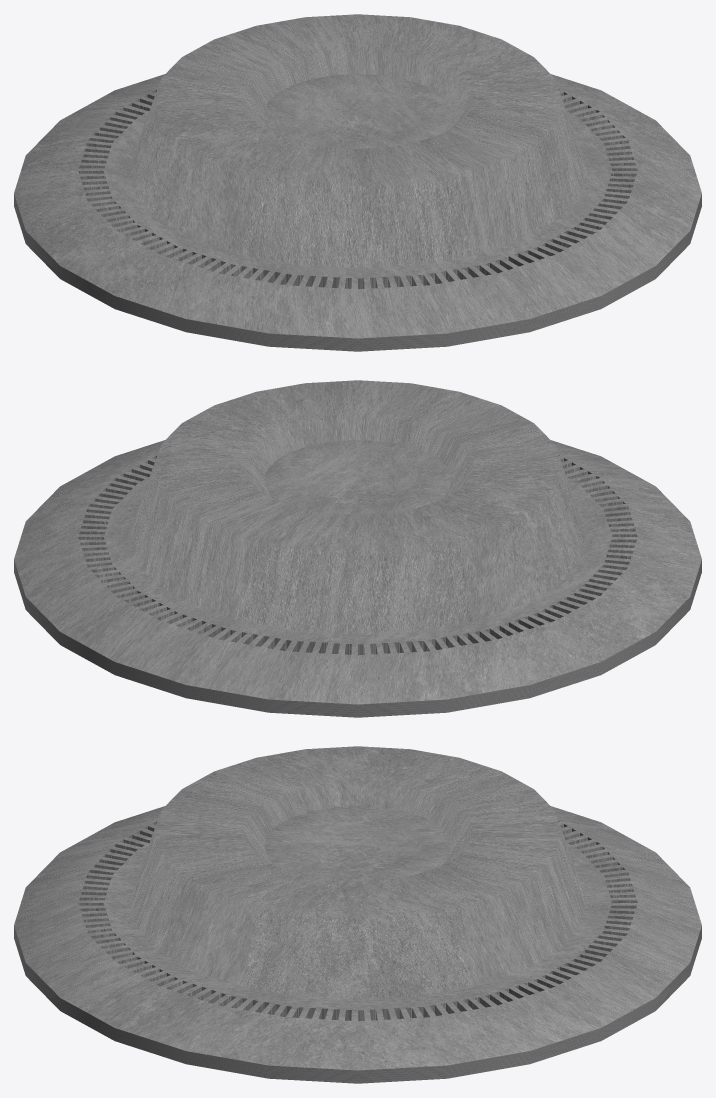
The model's file is supermaszyna_dol.FBX.
The picture shows the model from 3 angles, top to bottom: view 1: azimuth 30°, elevation 25°; view 2: azimuth 150°, elevation 25°; view 3: azimuth 270°, elevation 25°; orthographic projection.
Visible parts, largest first — view 1: machina; view 2: machina; view 3: machina.
Boxes of the visible parts, <box> form: machina: <box>14,14,701,351</box>; machina: <box>14,380,701,717</box>; machina: <box>14,746,701,1083</box>.
Bounding box in the file's own units: 5.04 × 0.8585 × 5.04.
1 material, 1 textured.
